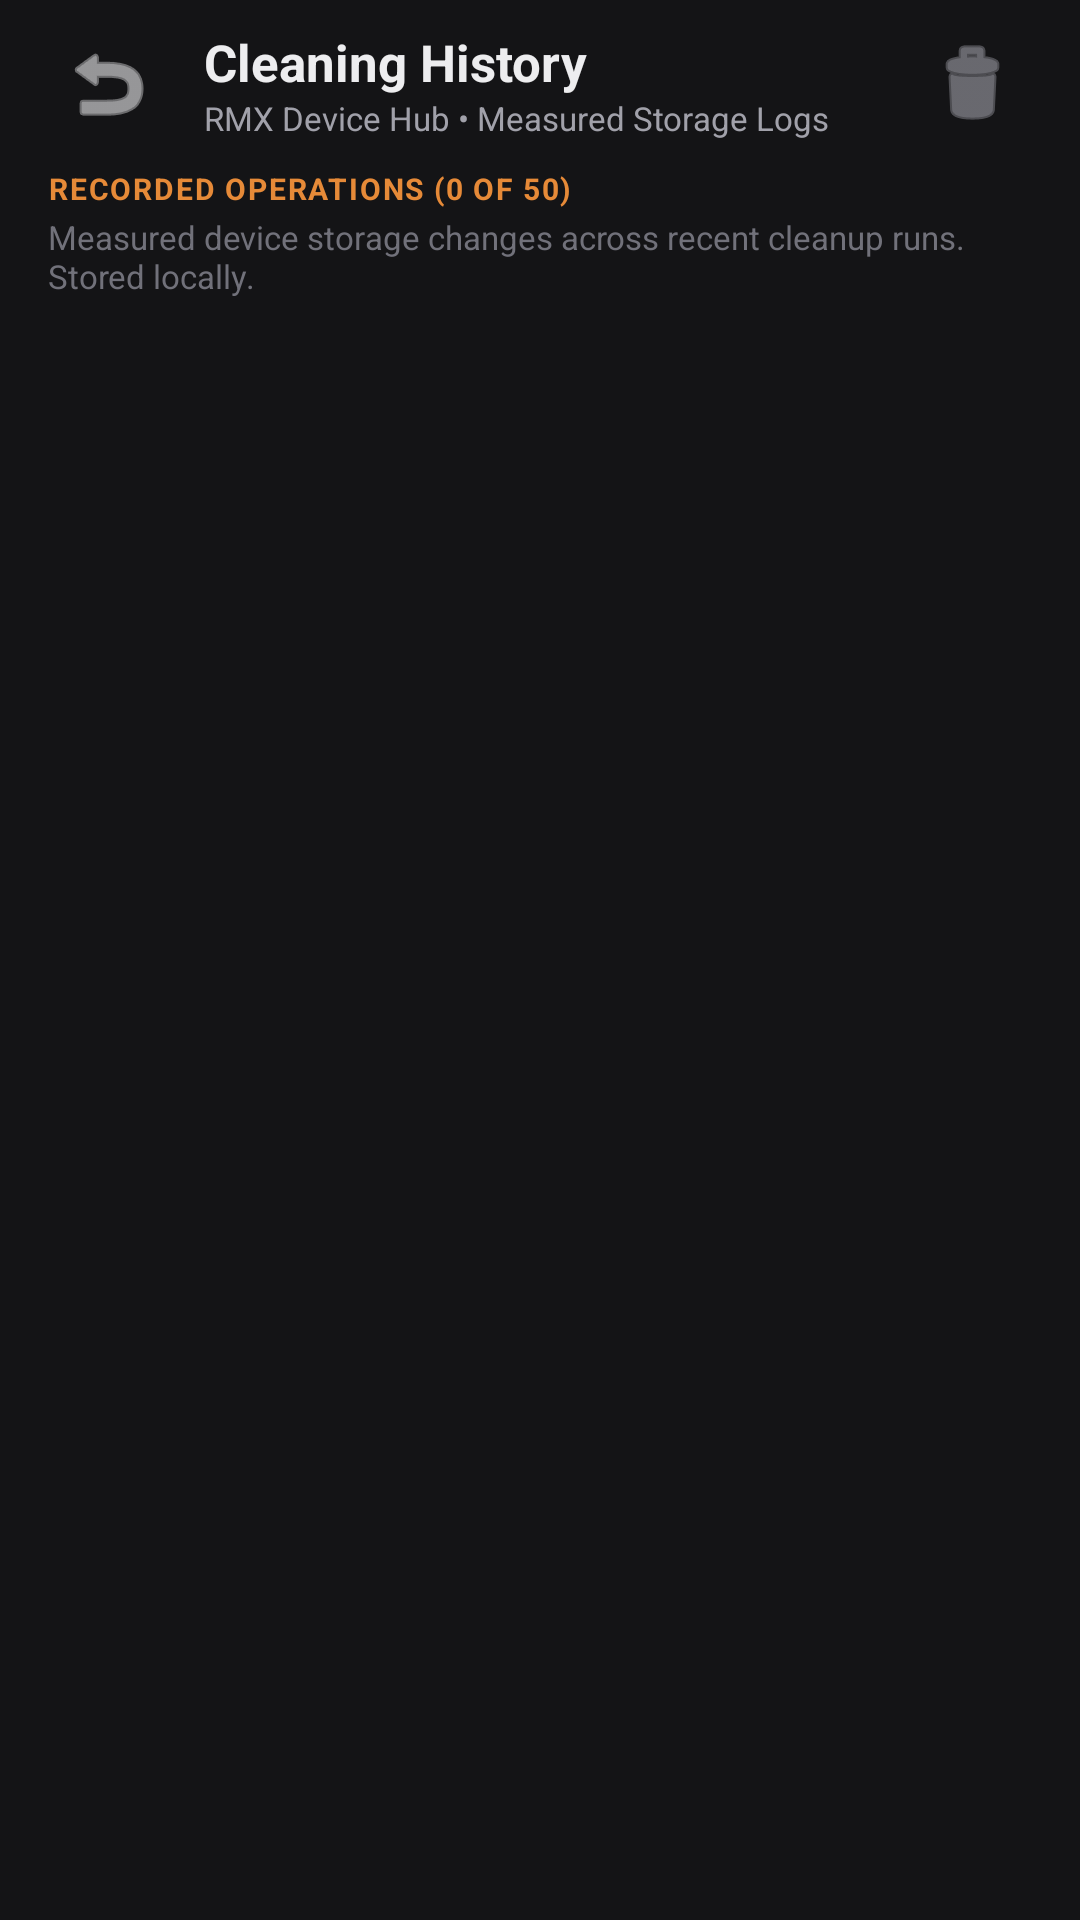

Where to tap for icons on this 1080 × 1920 app screen, as point (x, y):
Clear history: point (972, 82)
revert: point (109, 84)
